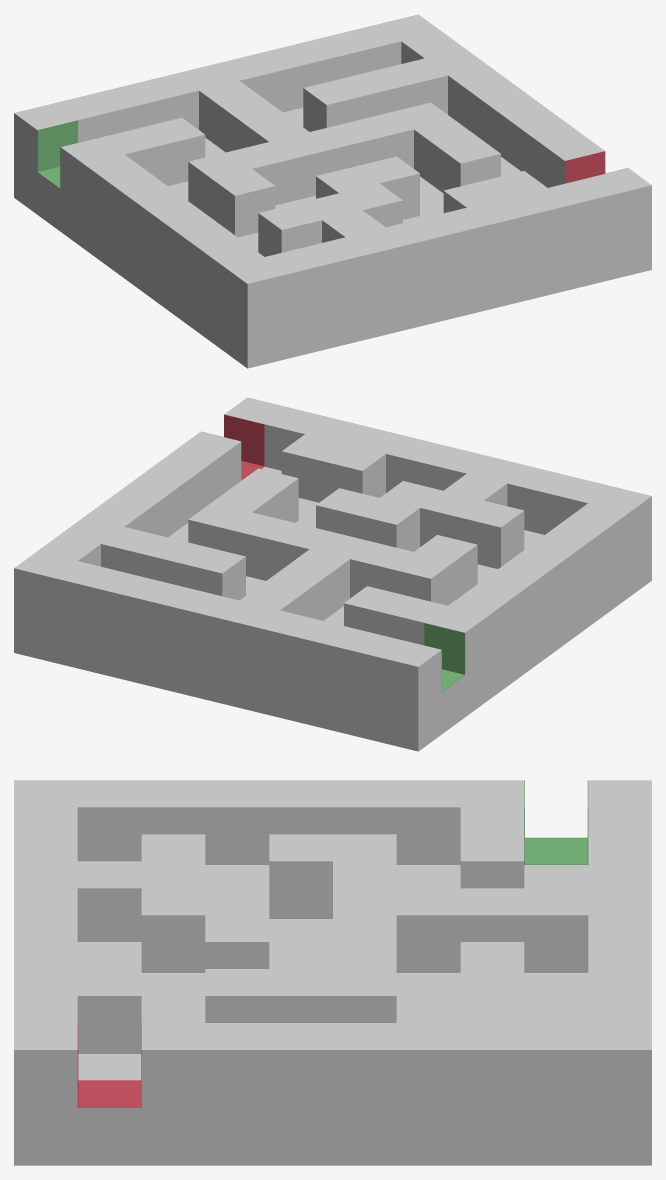
The model's file is labyrinthe.glb.
The picture shows the model from 3 angles, top to bottom: view 1: azimuth 30°, elevation 25°; view 2: azimuth 150°, elevation 25°; view 3: azimuth 270°, elevation 25°; orthographic projection. The views are drawn at different scales.
Parts seen in each view (by area): view 1: Mesh_Mesh_head_geo.001_lambert2SG.001; view 2: Mesh_Mesh_head_geo.001_lambert2SG.001; view 3: Mesh_Mesh_head_geo.001_lambert2SG.001.
Part boxes in pixels (<box>): Mesh_Mesh_head_geo.001_lambert2SG.001: <box>14,14,651,368</box>; Mesh_Mesh_head_geo.001_lambert2SG.001: <box>14,397,651,751</box>; Mesh_Mesh_head_geo.001_lambert2SG.001: <box>14,780,651,1165</box>.
Size of the model in its own units: 10 by 2 by 10.
